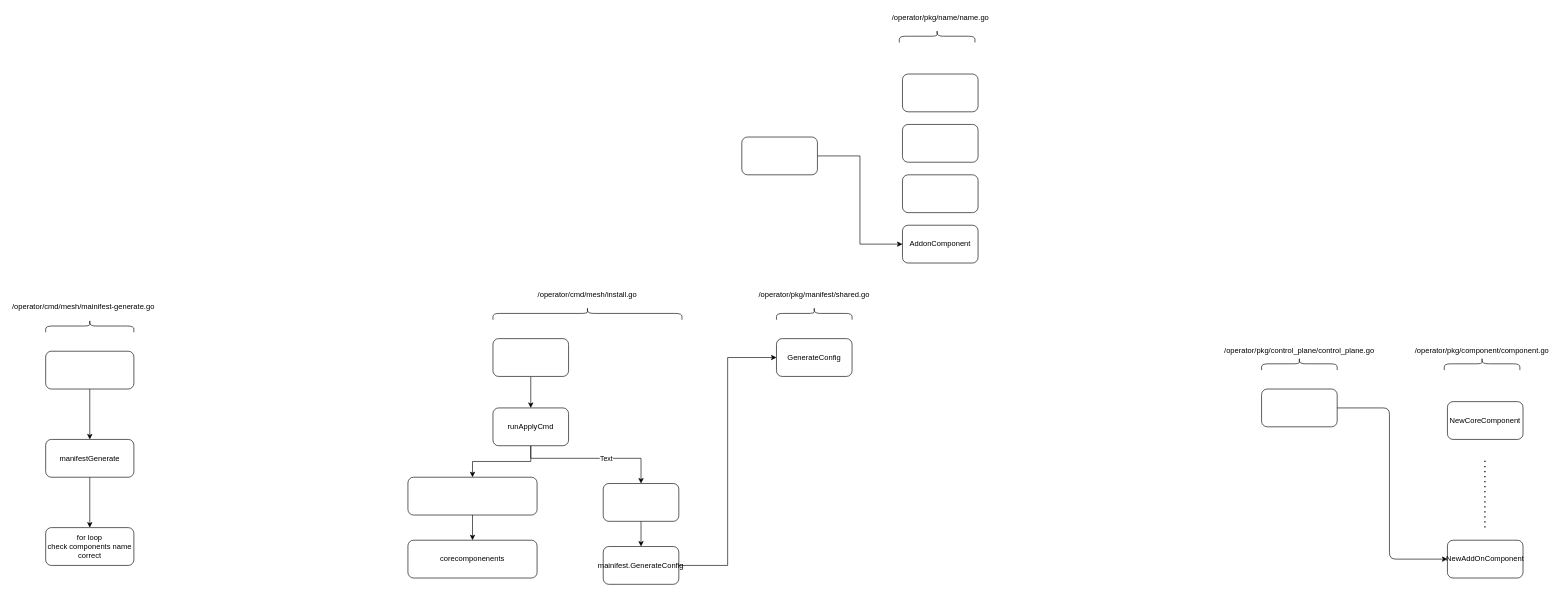
Image size: 1565x595. Some labels were removed from this diagram. The centre of each missing label's shape, as x and y in pixels:
"getProfileAndEnabledComponents" goes at (x=472, y=496).
"InstallCmd" goes at (x=530, y=357).
"installManifests" goes at (x=641, y=502).
"mainifestGenerateCmd" goes at (x=89, y=370).
"NewIstioControlPlane" goes at (x=1299, y=407).
